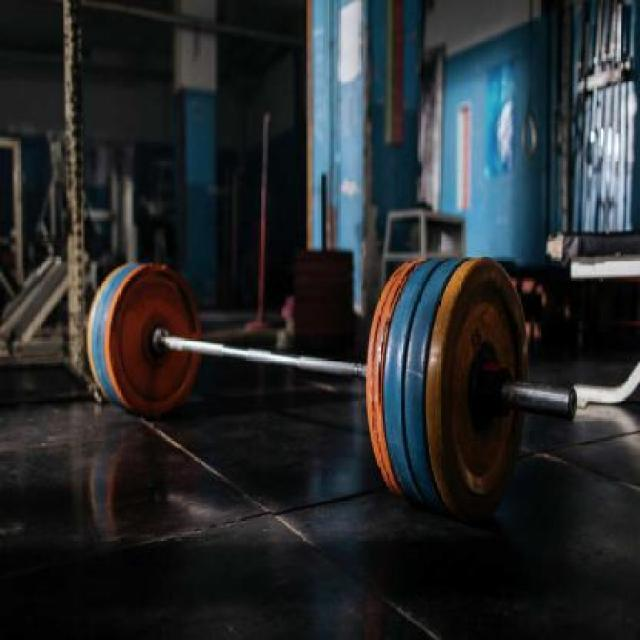Barbell: (560, 378, 588, 436)
